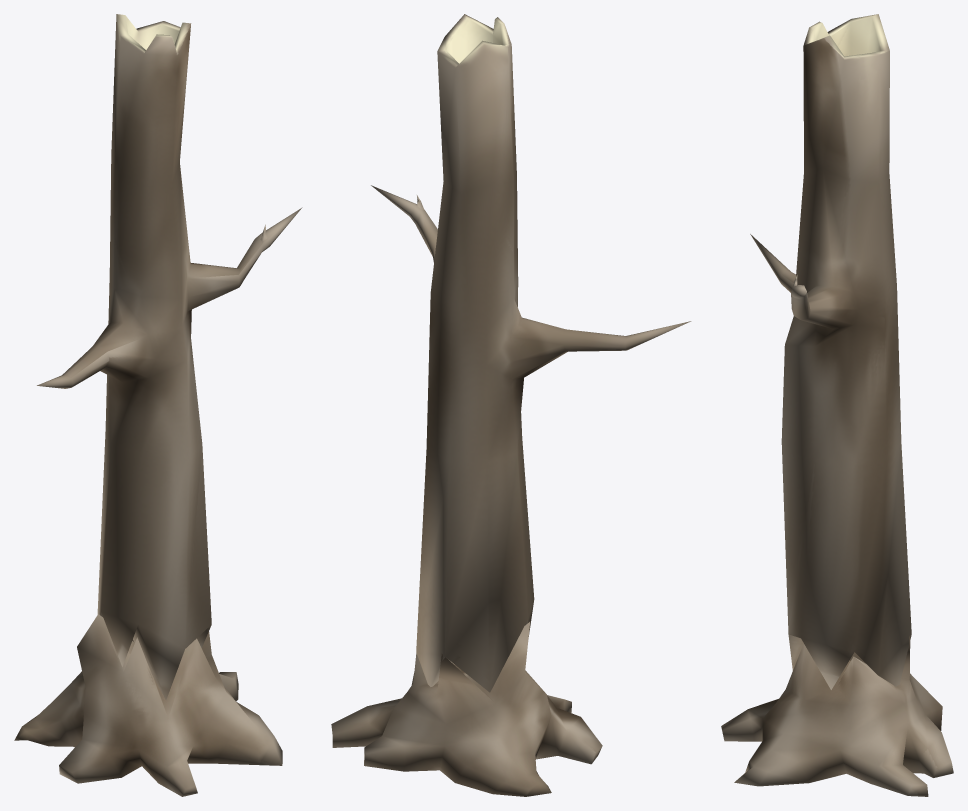
The model's file is old_tree.fbx.
3 views of the same model, side by side, from view 1: azimuth 30°, elevation 25°; view 2: azimuth 150°, elevation 25°; view 3: azimuth 270°, elevation 25° (orthographic).
Visible parts, largest first — view 1: tree_top, tree_bottom; view 2: tree_top, tree_bottom; view 3: tree_top, tree_bottom.
Part boxes in pixels (x1,y1,x2,y2): tree_top: [37, 14, 302, 700]; tree_bottom: [14, 614, 282, 796]; tree_top: [371, 14, 691, 692]; tree_bottom: [331, 622, 602, 796]; tree_top: [750, 14, 911, 689]; tree_bottom: [721, 635, 953, 796].
Bounding box in the file's own units: 508 × 1190 × 346.
Materials: 2 (2 with a texture image).
